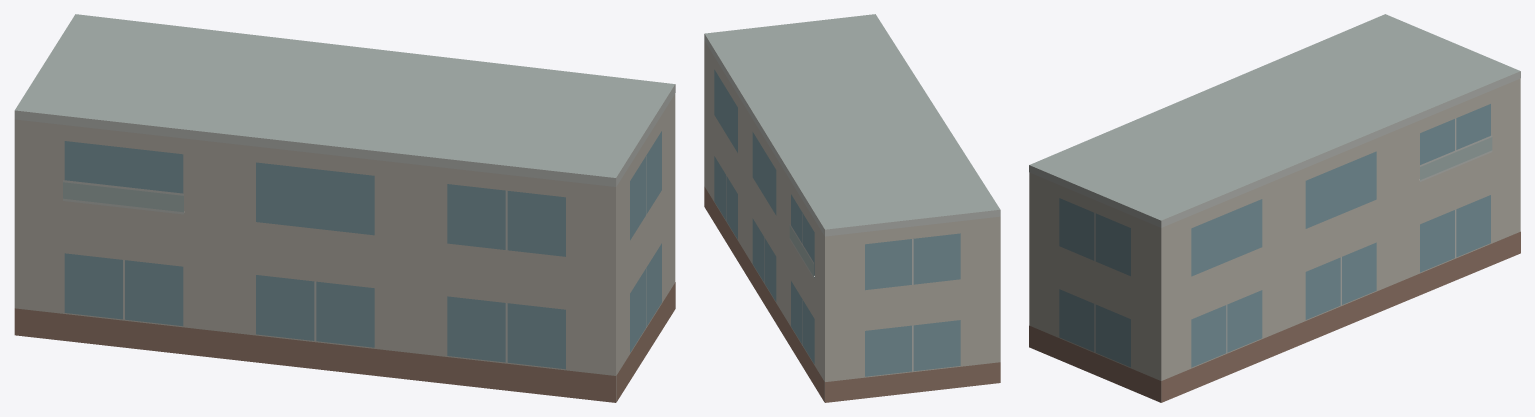
File: survey-upis-32527988.glb
3 renders of one model, left to right at view 1: azimuth 30°, elevation 25°; view 2: azimuth 150°, elevation 25°; view 3: azimuth 270°, elevation 25°, orthographic. The views are drawn at different scales.
Parts seen in each view (by area): view 1: survey-upis-32527988.tmp; view 2: survey-upis-32527988.tmp; view 3: survey-upis-32527988.tmp.
Boxes of the visible parts, x1,y1,x2,y2 form: survey-upis-32527988.tmp: (14,14,675,402); survey-upis-32527988.tmp: (704,14,1000,402); survey-upis-32527988.tmp: (1029,14,1520,402).
Size of the model in its own units: 14.85 by 6.1 by 14.92.
